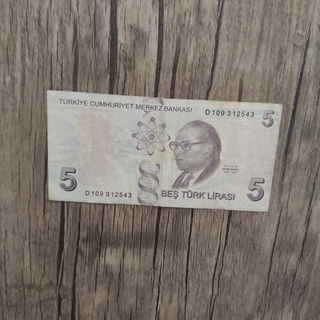5TLBack: (45, 89, 283, 212)
